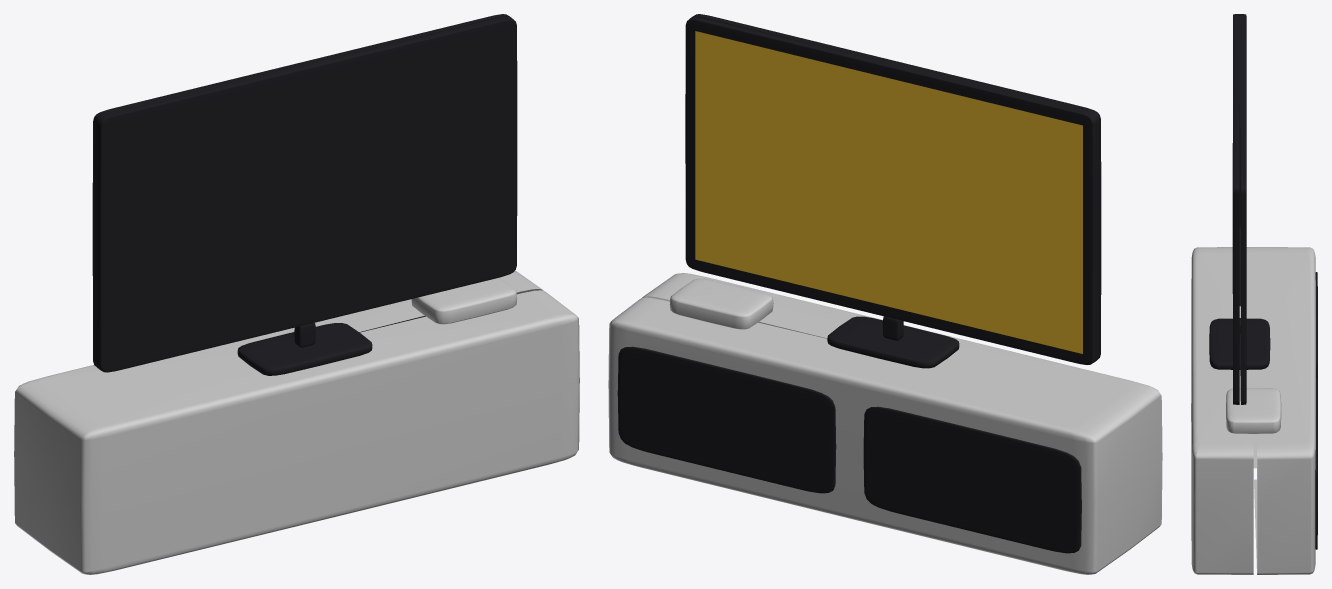
Rendered from home_tv.fbx.
The picture shows the model from 3 angles, left to right: view 1: azimuth 30°, elevation 25°; view 2: azimuth 150°, elevation 25°; view 3: azimuth 270°, elevation 25°; orthographic projection. The views are drawn at different scales.
Parts seen in each view (by area): view 1: home_tv; view 2: home_tv; view 3: home_tv.
Part boxes in pixels (bbox=[...]): home_tv: bbox=[14, 14, 579, 574]; home_tv: bbox=[608, 14, 1162, 574]; home_tv: bbox=[1191, 14, 1317, 574].
Bounding box in the file's own units: 1.8 × 1.49 × 0.456.
